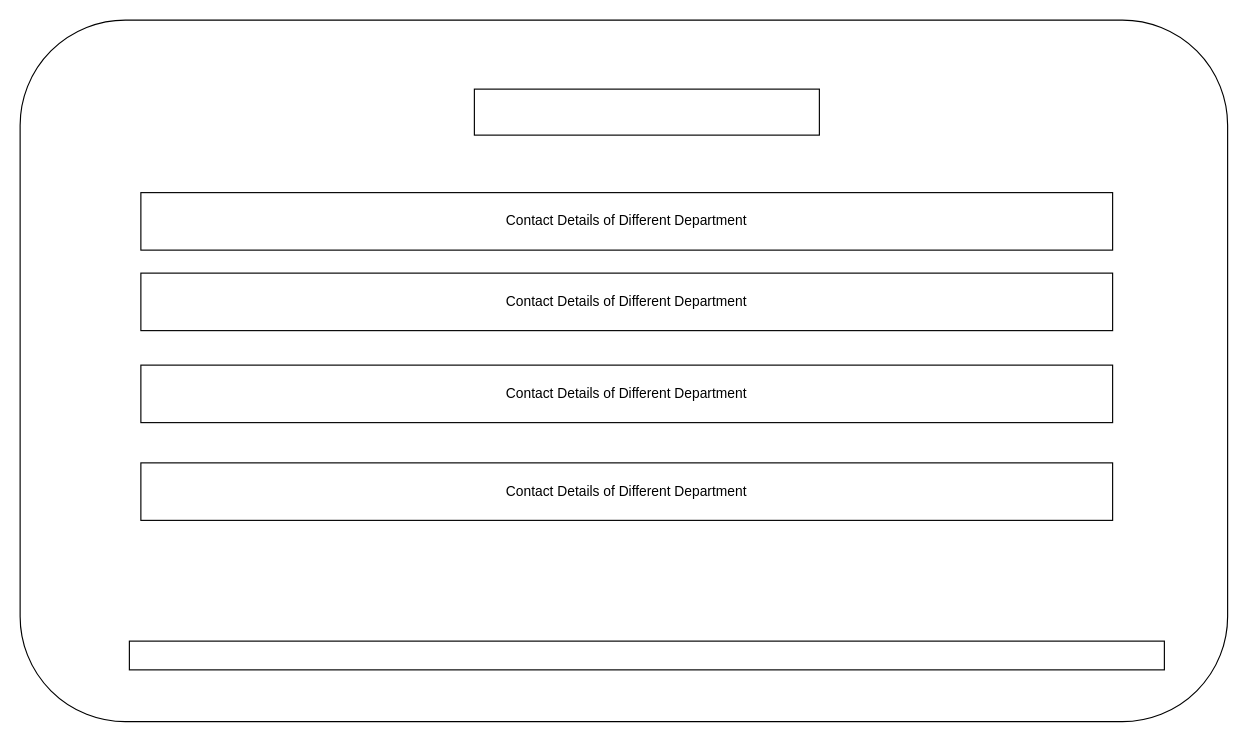
The diagram is 1248 pixels wide and 742 high, and some of its shapes have lost their labels. Here are the shapes that lost their labels. From the top down, the centre of each, then its label:
At pixel 646 111: "Student Hub Portal".
At pixel 646 655: "Footer".
